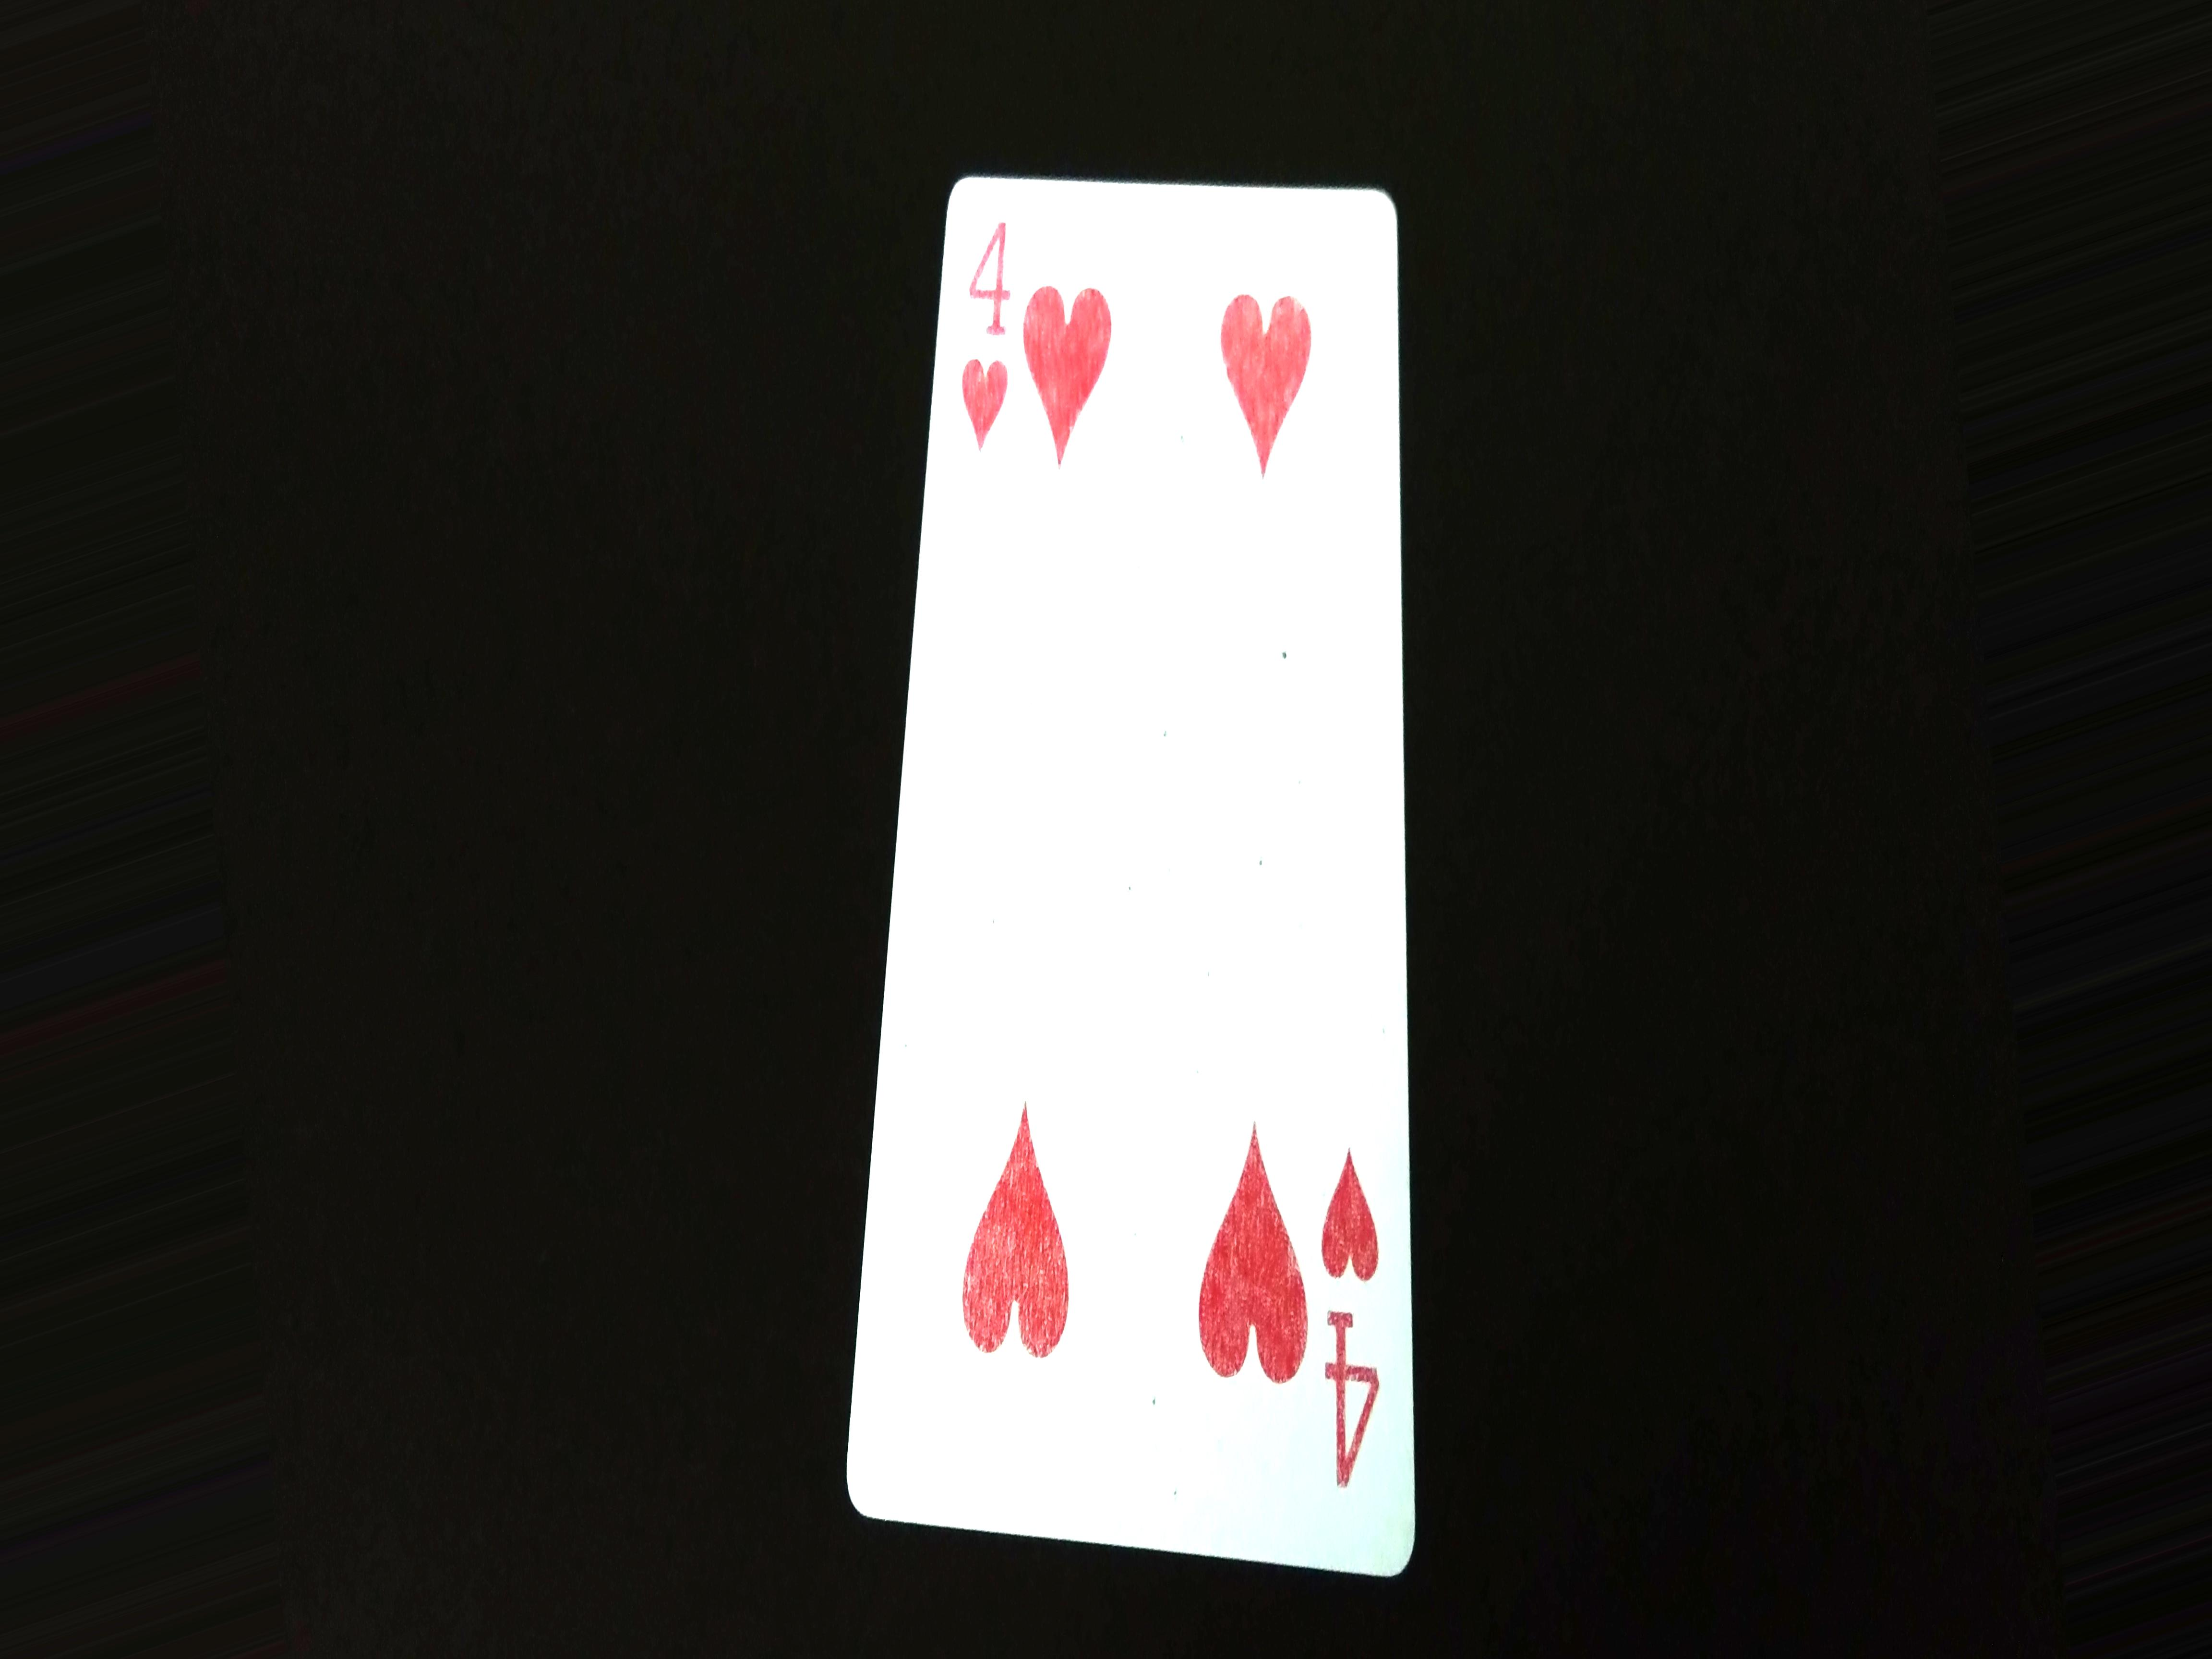4H: (949, 207, 1035, 477)
